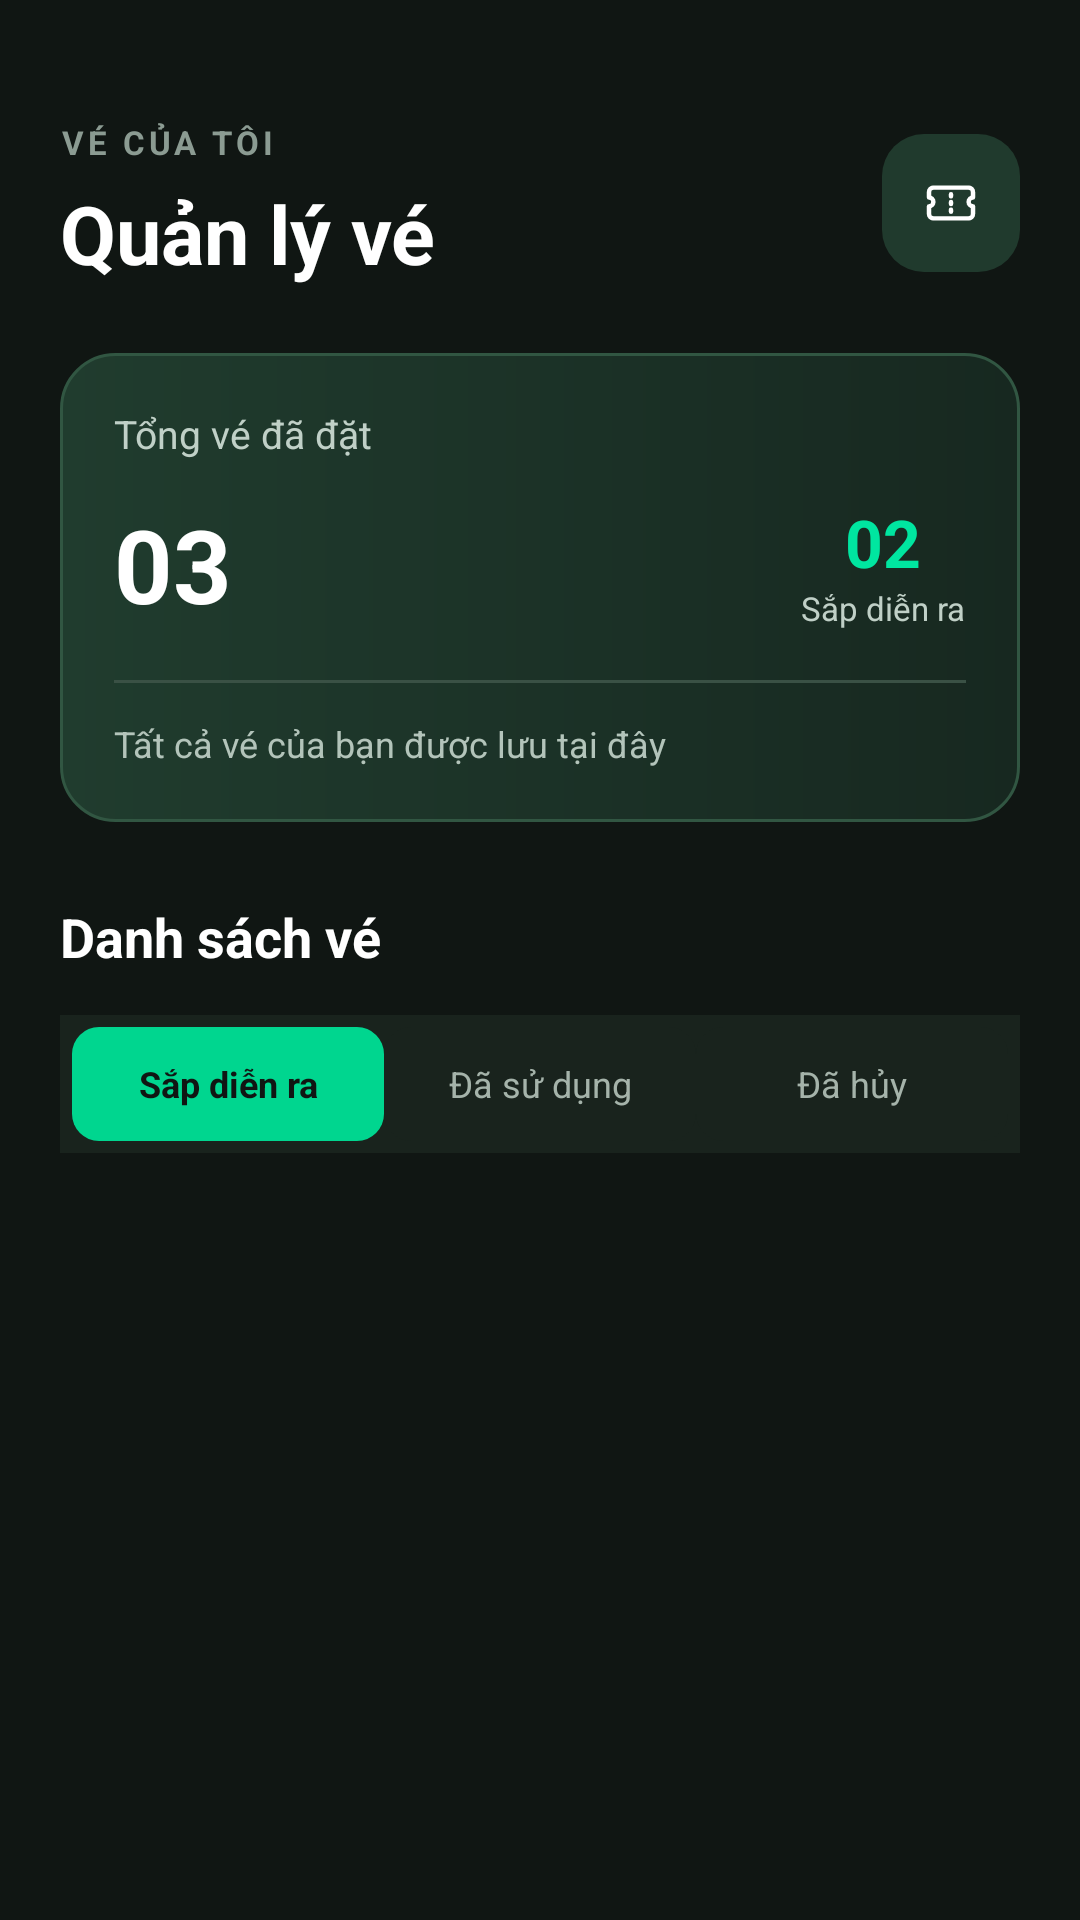

Where icons sit on this 1080*1920 app screen, as box=[x1, y1, x2, y2]:
Vé của tôi: box=[882, 134, 1020, 272]
